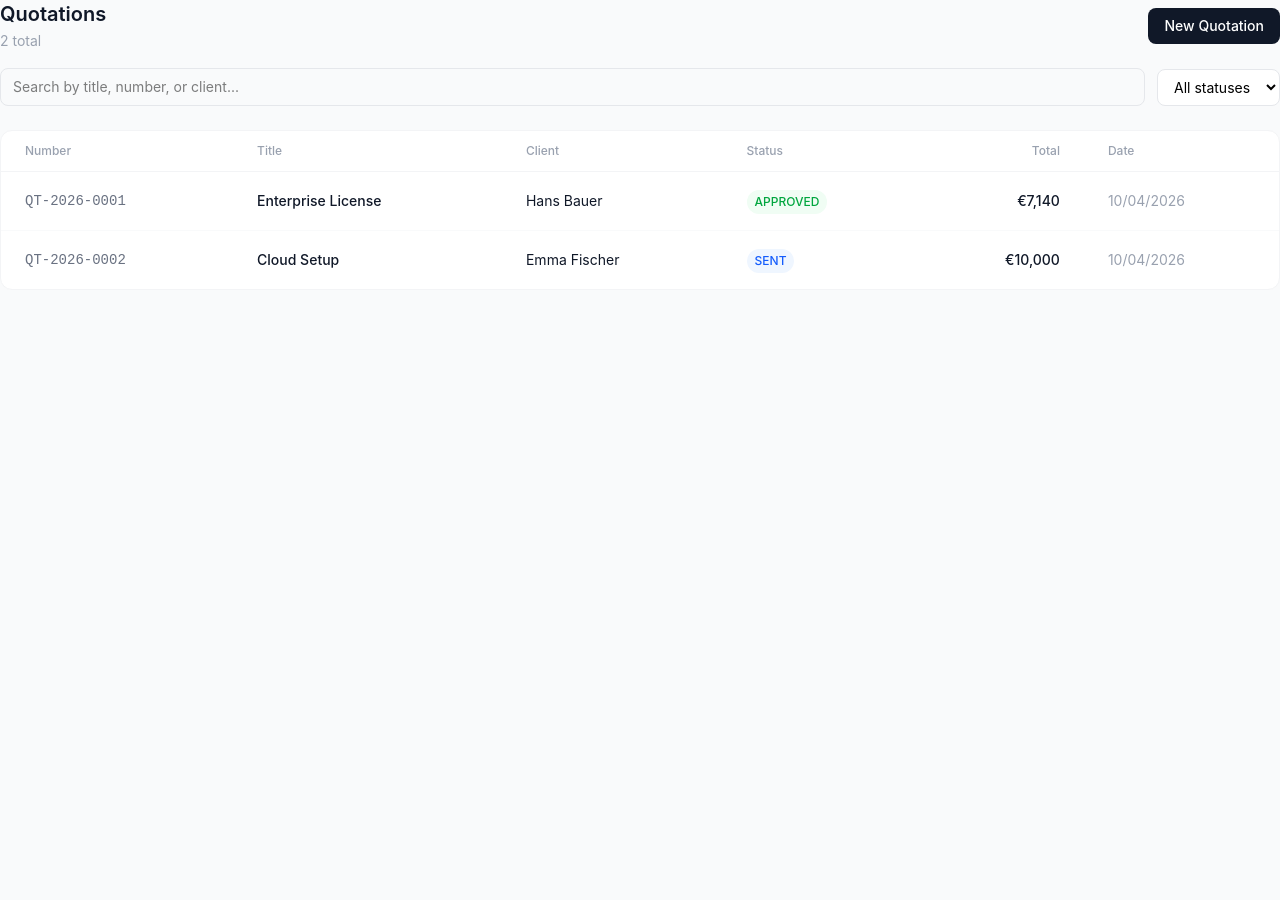
QuotationsPage › opens create modal when New Quotation button is clicked
Click the button "New Quotation" at (1214, 26), box [1148,8,1279,44]
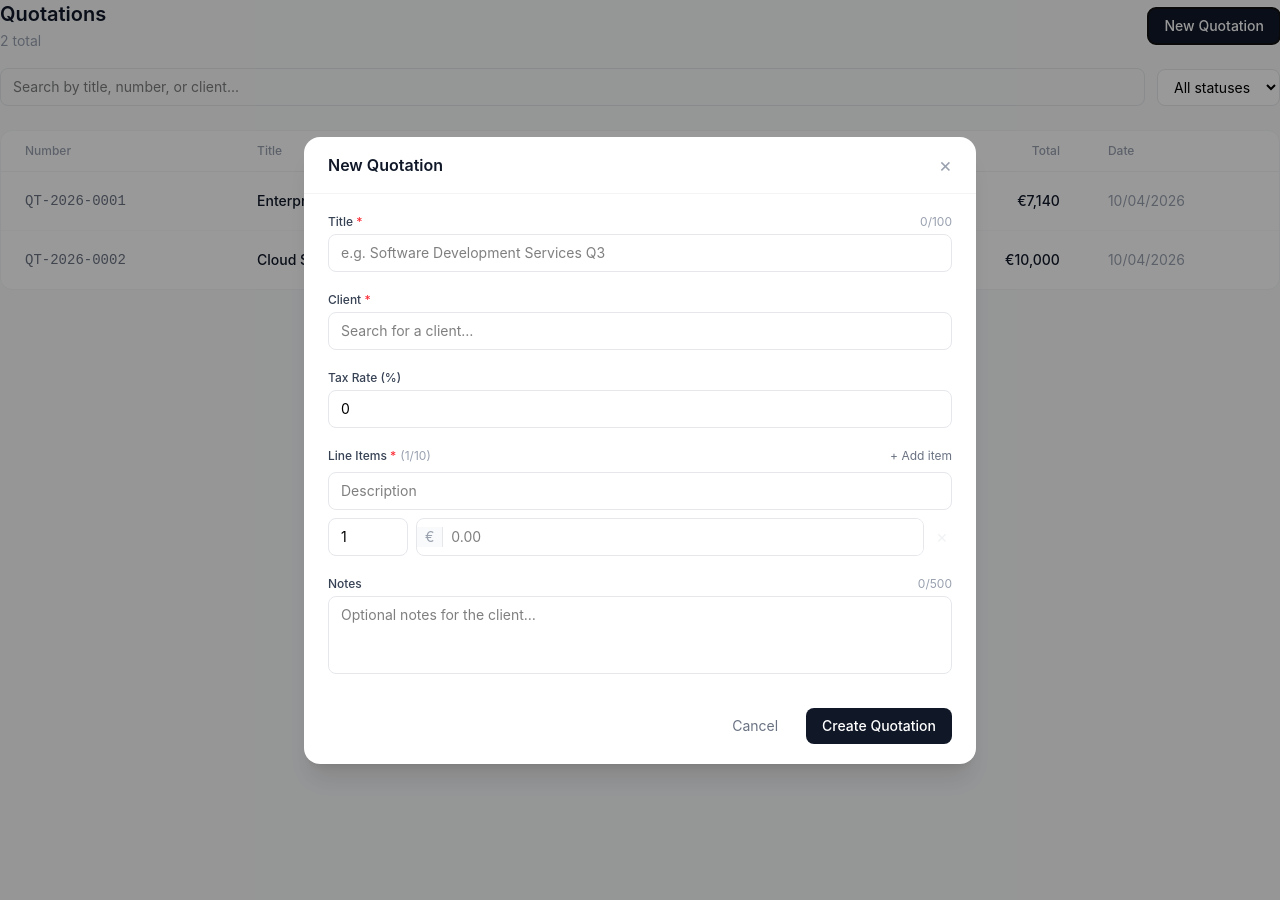
Result: the dialog named "Create quotation" is shown
